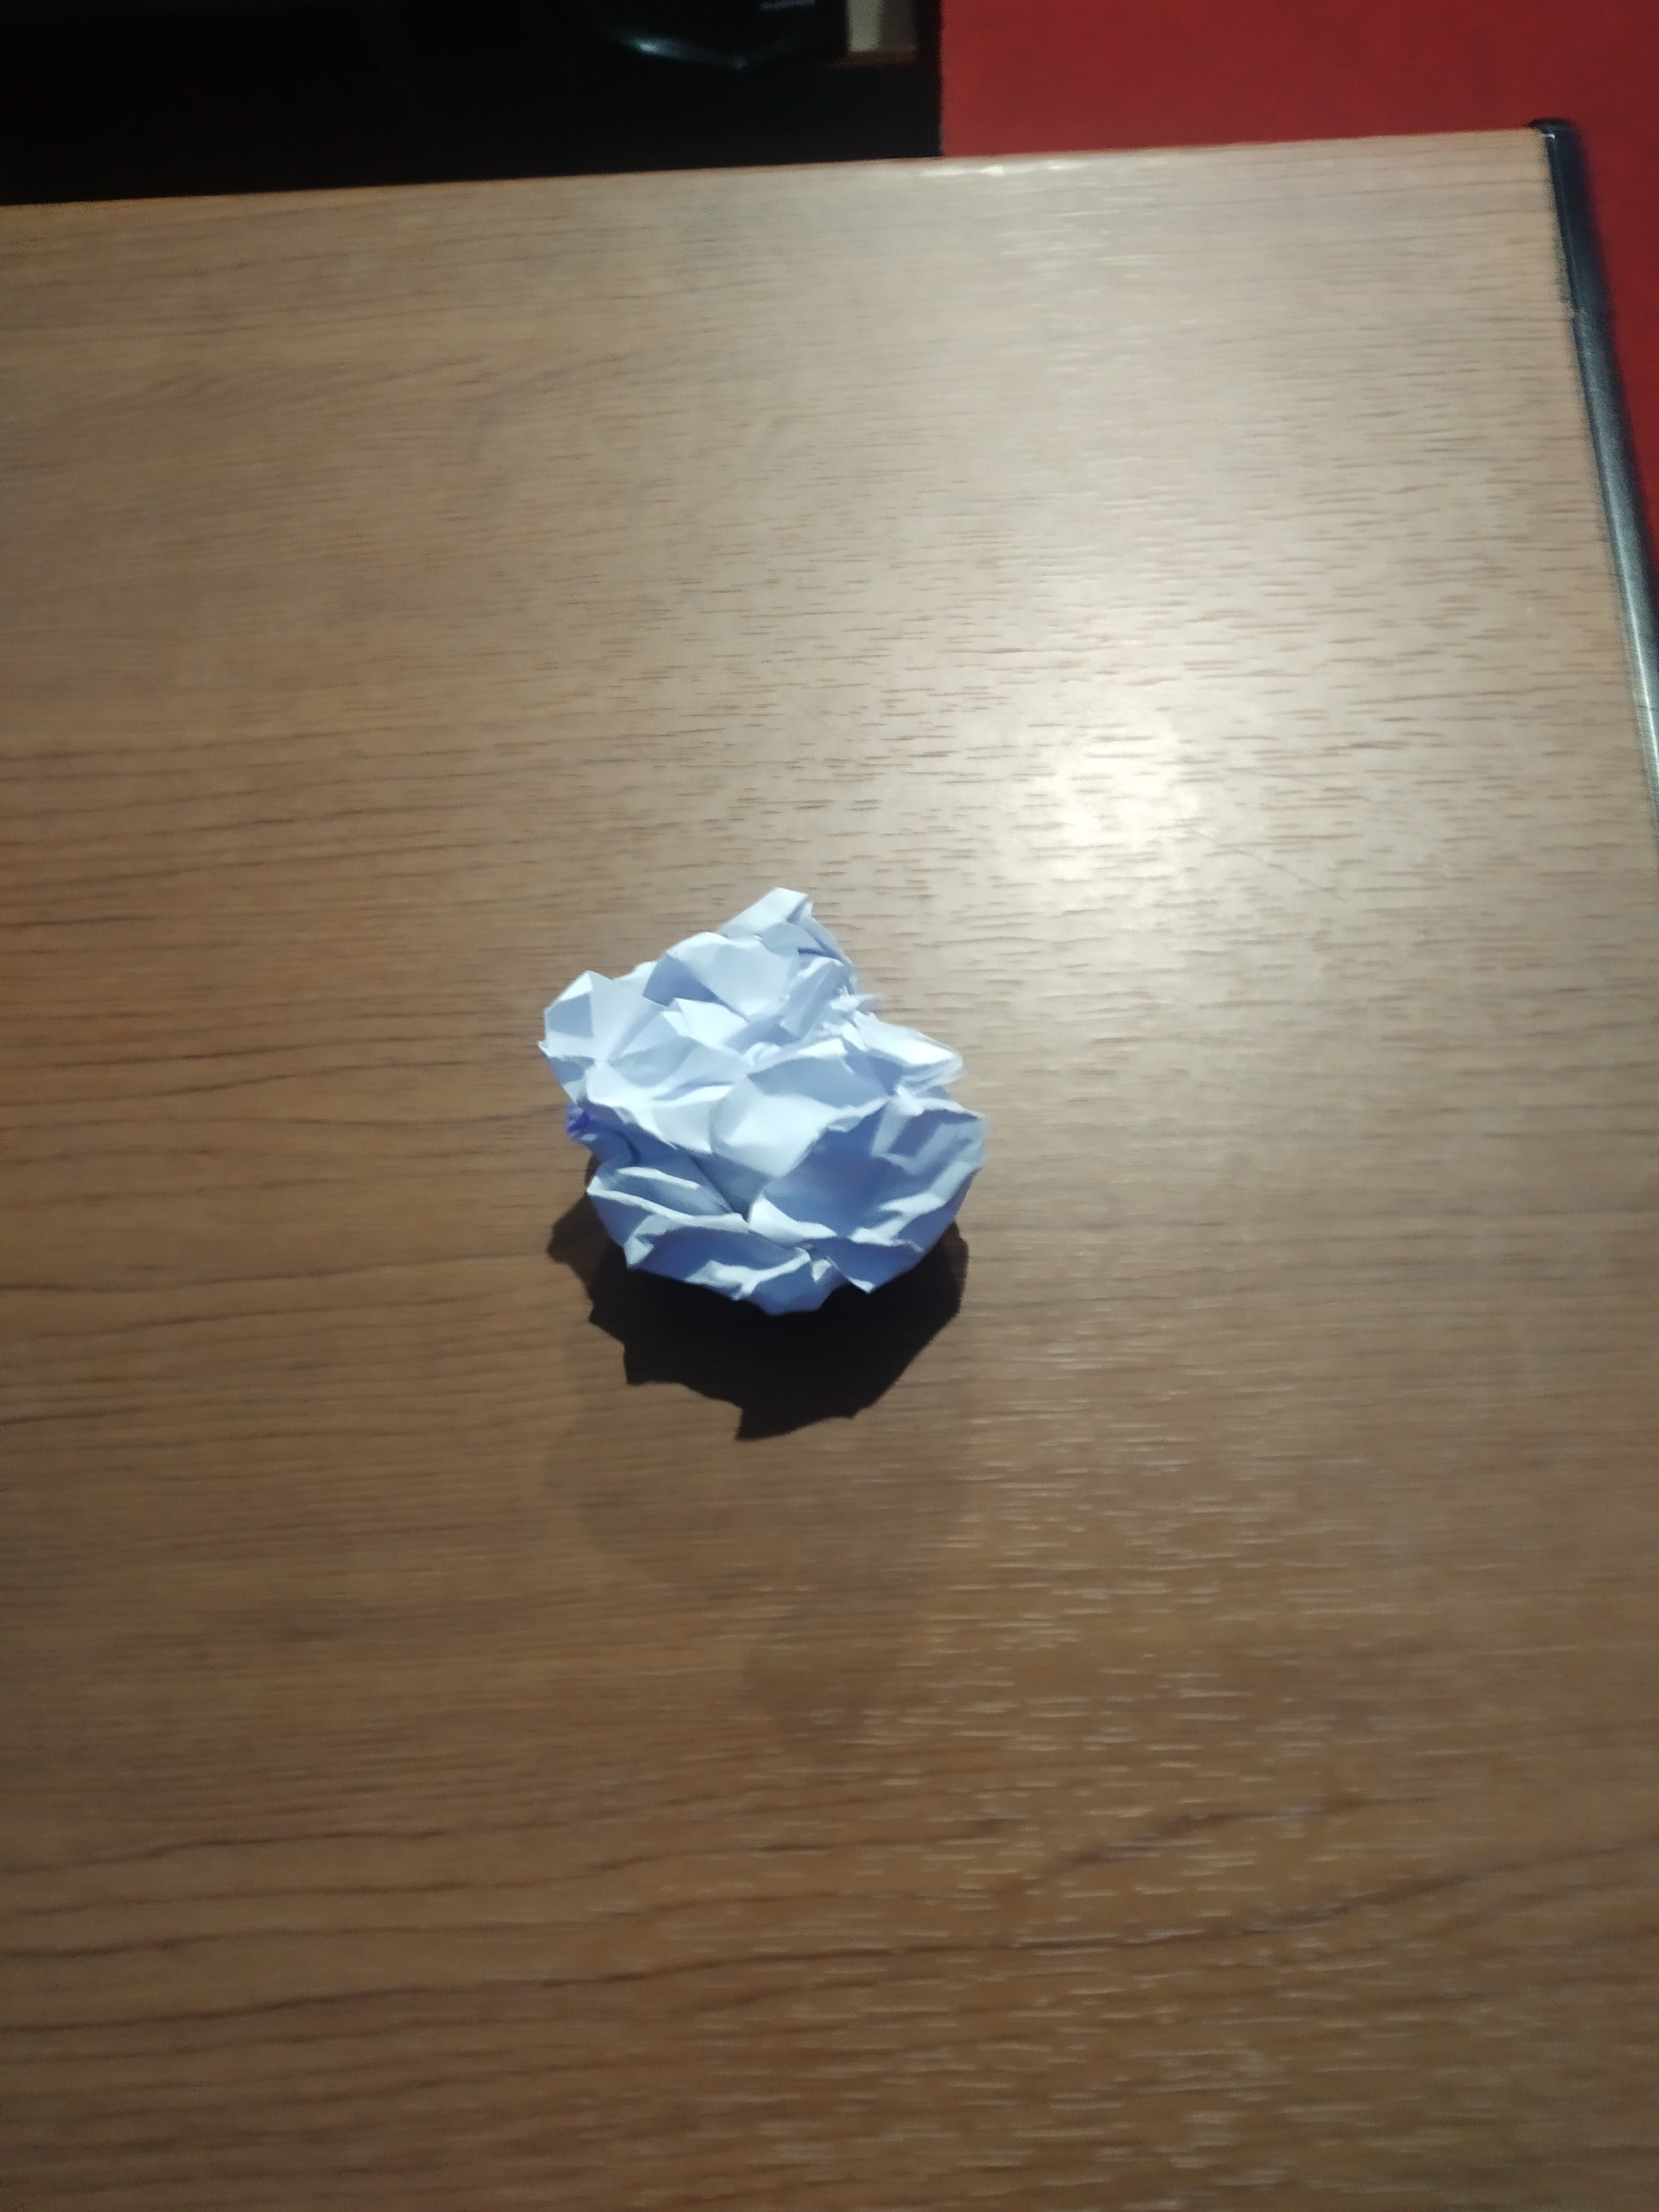kertas: (497, 878, 1039, 1350)
